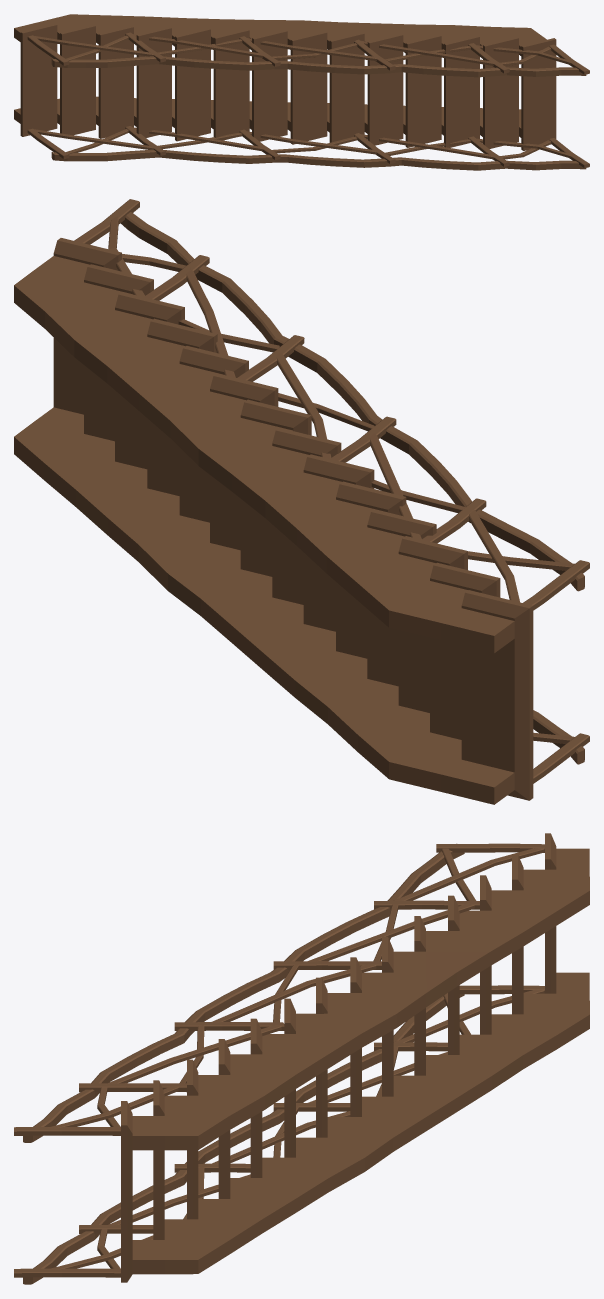
The model's file is Stair_06.fbx.
3 views of the same model, one above another, from view 1: azimuth 30°, elevation 25°; view 2: azimuth 150°, elevation 25°; view 3: azimuth 270°, elevation 25° (orthographic). The views are drawn at different scales.
Visible parts, largest first — view 1: escaliers vide.001; view 2: escaliers vide.001; view 3: escaliers vide.001.
Part boxes in pixels (x1,y1,x2,y2): escaliers vide.001: (14,14,589,170); escaliers vide.001: (14,199,589,804); escaliers vide.001: (14,833,589,1284).
Bounding box in the file's own units: 383 × 98.34 × 319.
